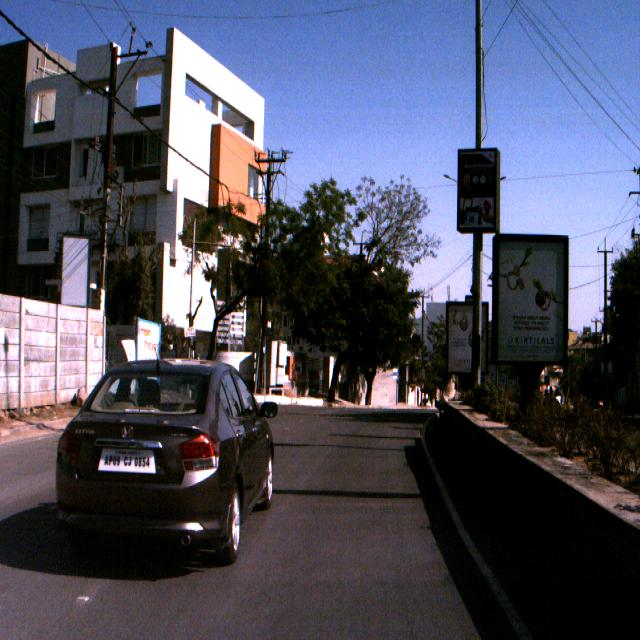car ahead at: (50, 352, 278, 574)
electric pole ahead at: (66, 26, 156, 352)
